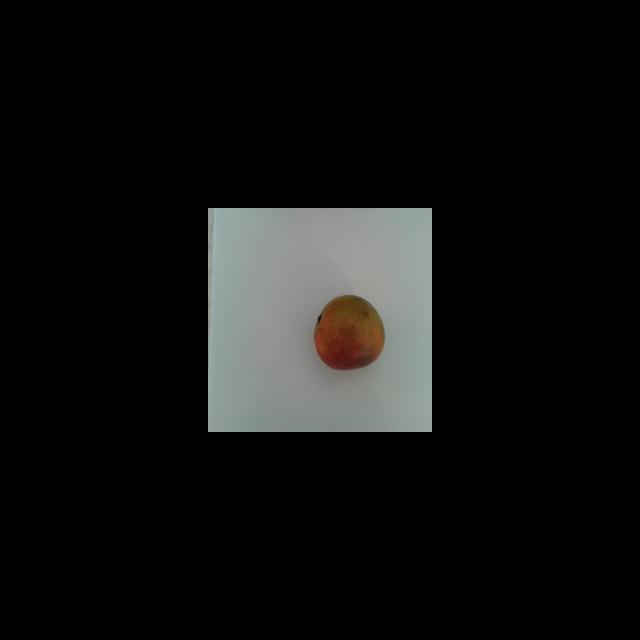Mango: (313, 294, 385, 370)
